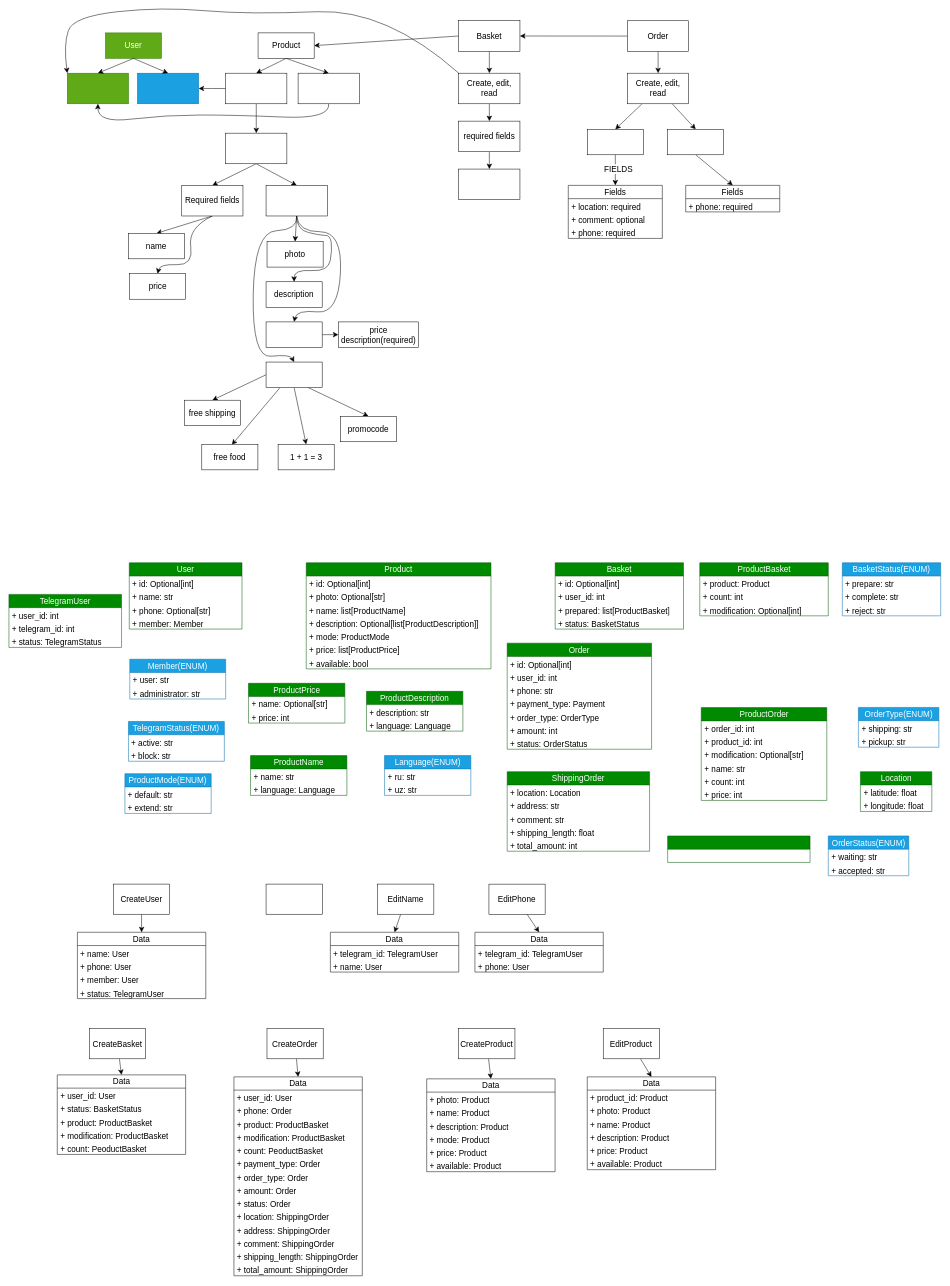
The diagram is 950 pixels wide and 1286 high, and some of its shapes have lost their labels. Here are the shapes that lost their labels. From the top down, the centre of each, then its label:
At [98,88]: "Default user".
At [168,88]: "Admin user".
At [256,88]: "Create, edit".
At [328,88]: "Read".
At [256,148]: "Product variety".
At [615,142]: "shipping".
At [695,142]: "pickup".
At [296,200]: "Optional fields".
At [489,184]: "list proucts".
At [294,334]: "more than one type price".
At [294,375]: "discount".
At [738,848]: "PickupOrder".
At [294,899]: "CreateAdmin".
